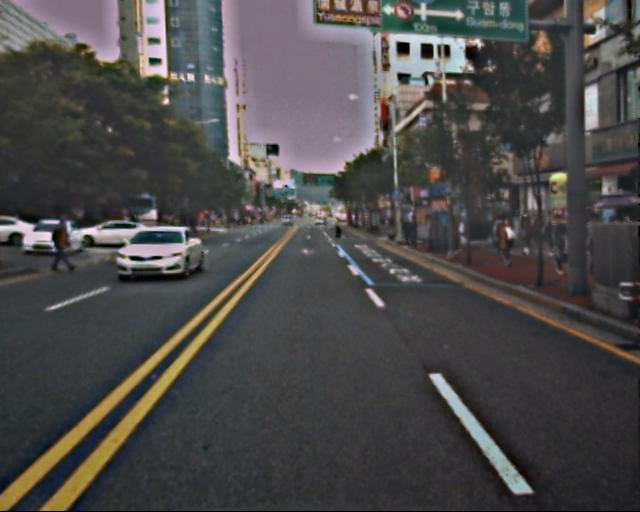person: (51, 212, 88, 271), (544, 208, 571, 275), (497, 218, 515, 263), (423, 219, 439, 257), (410, 216, 425, 252), (400, 221, 411, 248), (334, 216, 344, 240)
